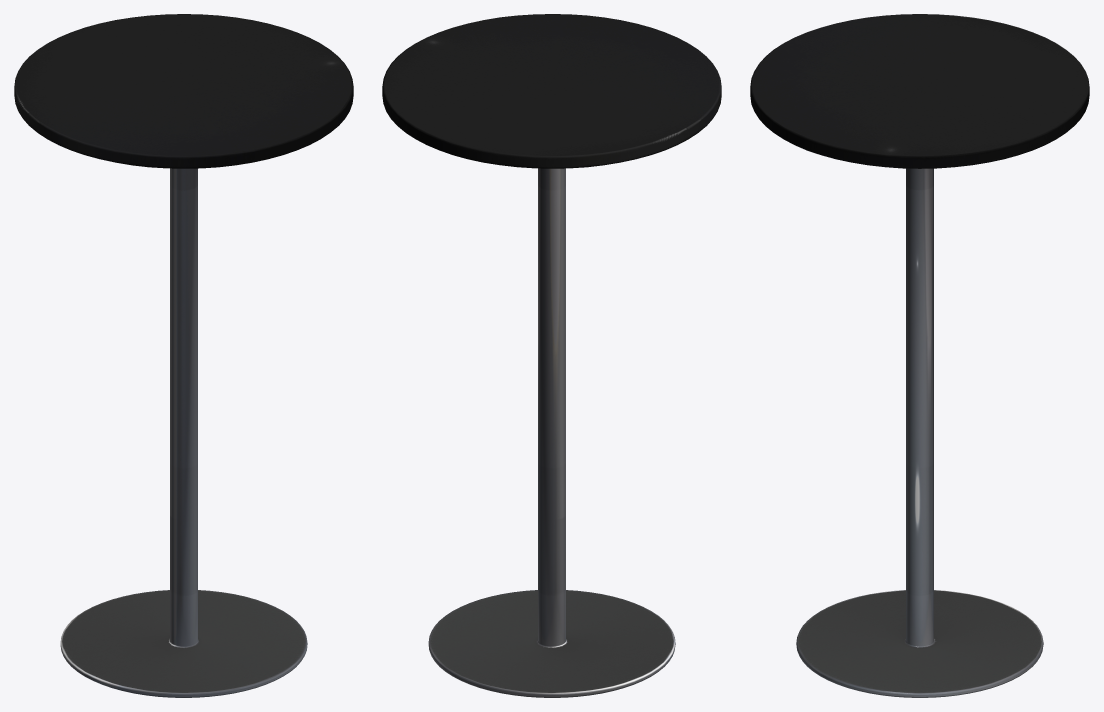
File: brio_110_60_grey_stainless_steel.glb
3 views of the same model, side by side, from view 1: azimuth 30°, elevation 25°; view 2: azimuth 150°, elevation 25°; view 3: azimuth 270°, elevation 25° (orthographic).
Visible parts, largest first — view 1: brio_110_o60-black; view 2: brio_110_o60-black; view 3: brio_110_o60-black.
Boxes of the visible parts, <box> form: brio_110_o60-black: <box>14,14,353,697</box>; brio_110_o60-black: <box>382,14,721,697</box>; brio_110_o60-black: <box>750,14,1089,697</box>.
Size of the model in its own units: 0.6019 by 1.1 by 0.6019.
Materials: 1 (1 with a texture image).
